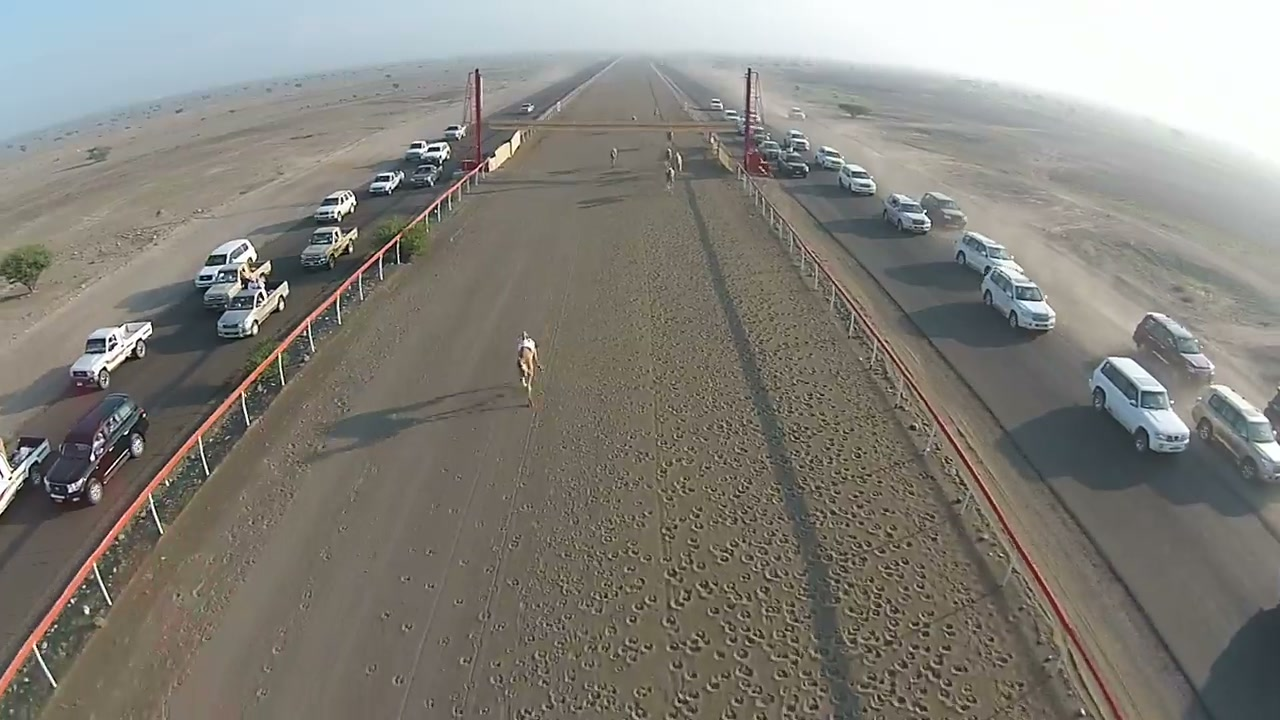animal_foot_print: (419, 213, 982, 717)
